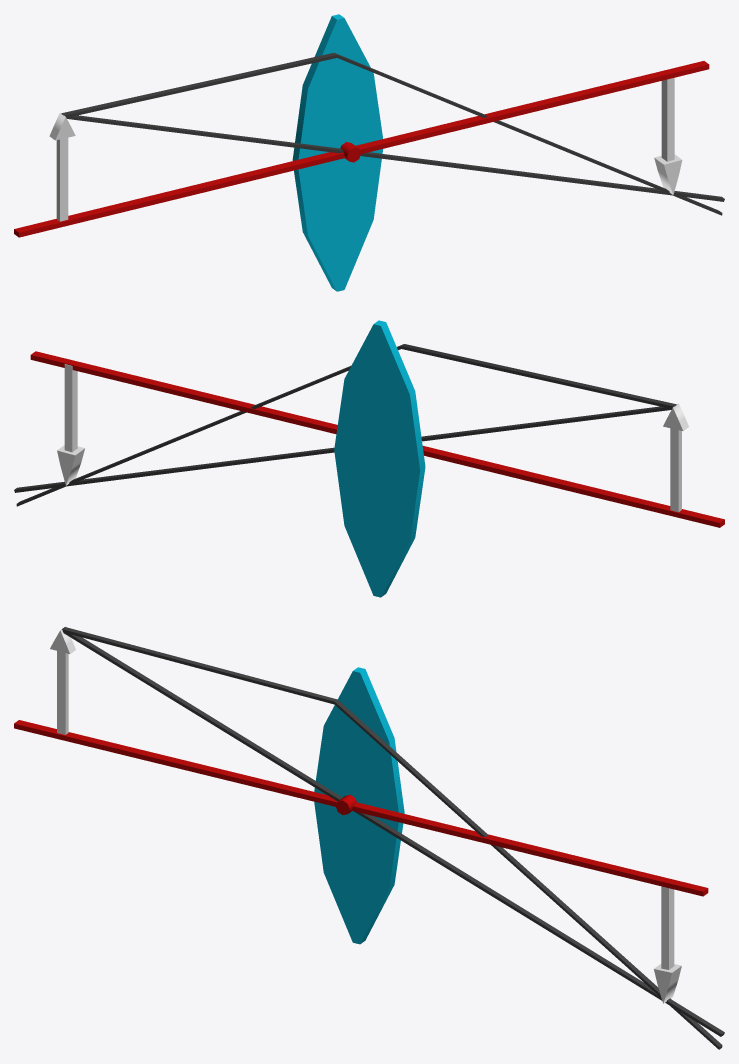
The model's file is last3.fbx.
3 renders of one model, top to bottom at view 1: azimuth 30°, elevation 25°; view 2: azimuth 150°, elevation 25°; view 3: azimuth 330°, elevation 25°, orthographic.
Visible parts, largest first — view 1: last3; view 2: last3; view 3: last3.
Boxes of the visible parts, x1,y1,x2,y2 form: last3: (14,14,724,291); last3: (14,320,724,597); last3: (14,626,724,1049).
Size of the model in its own units: 29.52 by 11.21 by 1.36.
